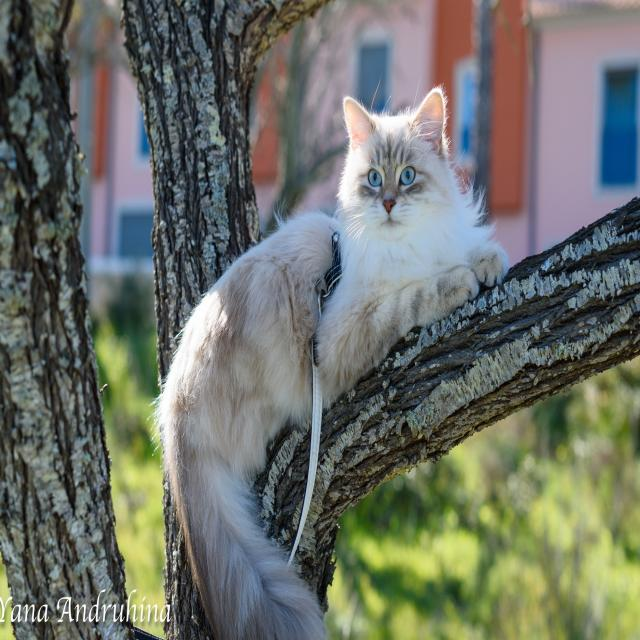Neva Masquerade: (156, 82, 512, 640)
